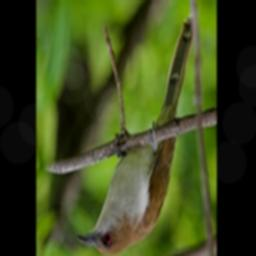Cuckoo: (75, 15, 193, 256)
